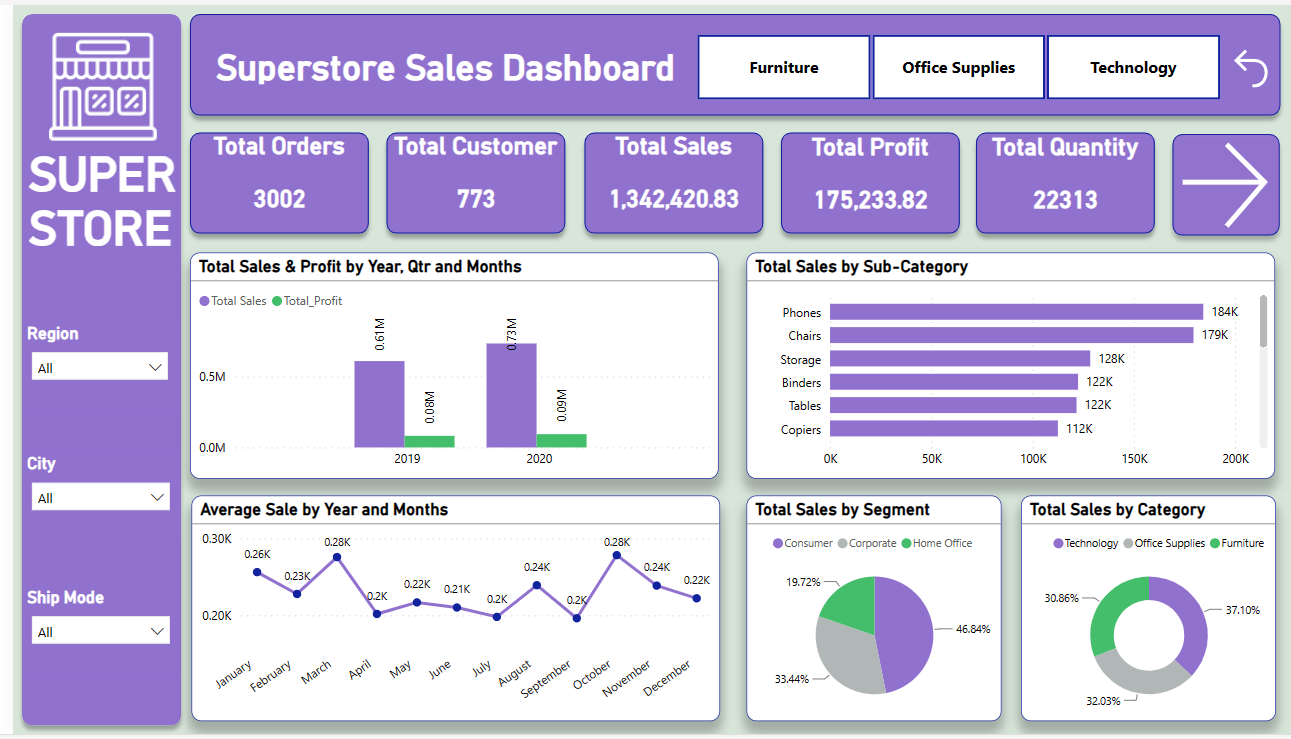

Layout of this report page (visuals, bound fields, positions):
{"tool":"powerbi","page":{"name":"Dashboard","canvas":[1280,730],"ordinal":0},"visuals":[{"type":"shape","box":[168.3,0,1109.9,119.7],"z":0},{"type":"shape","box":[0,0,177.5,730.3],"z":1000},{"type":"textbox","title":"Superstore Sales Dashboard","box":[198.3,42.4,474.6,37.3],"z":2000},{"type":"textbox","title":"SUPER STORE","box":[9.8,141.1,159.1,118.1],"z":3000},{"type":"shape","box":[955.6,118.5,197.1,119.2],"z":4000,"group":"g5"},{"type":"group","id":"g1","title":"Group 1","box":[168.5,119.2,197.1,119.2],"z":4000},{"type":"shape","box":[168.5,119.2,197.1,119.2],"z":4000,"group":"g1"},{"type":"shape","box":[365.6,119.2,197.1,119.2],"z":4000,"group":"g2"},{"type":"shape","box":[562.6,119.2,197.1,119.2],"z":4000,"group":"g3"},{"type":"shape","box":[759.7,119.2,197.1,119.2],"z":4000,"group":"g4"},{"type":"group","id":"g2","title":"Group 1","box":[365.6,119.2,197.1,119.2],"z":5000},{"type":"card","title":"Total Quantity","fields":{"Values":["Orders.Total_Qty"]},"box":[964.2,126.8,178.6,104.9],"z":5000,"group":"g5"},{"type":"card","title":"Total Orders","fields":{"Values":["Orders.Total_Orders"]},"box":[178.6,127.1,175.3,104.9],"z":5000,"group":"g1"},{"type":"card","title":"Total Customer","fields":{"Values":["Orders.Total_Customers"]},"box":[375.7,127.1,175.3,104.9],"z":5000,"group":"g2"},{"type":"card","title":"Total Sales","fields":{"Values":["Orders.Total_Sales"]},"box":[572.7,127.1,175.3,104.9],"z":5000,"group":"g3"},{"type":"card","title":"Total Profit","fields":{"Values":["Orders.Total_Profit"]},"box":[768.3,127.5,178.6,104.9],"z":5000,"group":"g4"},{"type":"group","id":"g3","title":"Group 1","box":[562.6,119.2,197.1,119.2],"z":6000},{"type":"group","id":"g4","title":"Group 1","box":[759.7,119.2,197.1,119.2],"z":7000},{"type":"slicer","title":"Category","fields":{"Values":["Orders.Category"]},"box":[659.6,23.1,573.1,78.8],"z":8000},{"type":"clusteredColumnChart","title":"Total Sales & Profit by Year, Qtr and Months","fields":{"Y":["Orders.Total_Sales","Orders.Total_Profit"],"Category":["Orders.Year","Orders.Qtr_name","Orders.Months"]},"box":[178,247.6,529.1,226.5],"z":9000},{"type":"clusteredBarChart","title":"Total Sales by Sub-Category","fields":{"Category":["Orders.Sub-Category"],"Y":["Orders.Total_Sales"]},"box":[734.6,247.6,529.1,226.5],"z":10000},{"type":"donutChart","title":"Total Sales by Category","fields":{"Category":["Orders.Category"],"Y":["Orders.Total_Sales"]},"box":[1009,491,255.1,225.8],"z":11000},{"type":"slicer","title":"Ship Mode","fields":{"Values":["Orders.Ship Mode"]},"box":[9.6,583.5,157.9,88.6],"z":12000},{"type":"lineChart","title":"Average Sale by Year and Months","fields":{"Y":["Orders.Avg_Sale"],"Category":["Orders.Order Date.Variation.Date Hierarchy.Year","Orders.Order Date.Variation.Date Hierarchy.Month"]},"box":[178.7,490.4,529.2,225.8],"z":13000},{"type":"pieChart","title":"Total Sales by Segment","fields":{"Y":["Orders.Total_Sales"],"Category":["Orders.Segment"]},"box":[734.8,491,255.1,225.8],"z":14000},{"type":"slicer","title":"City","fields":{"Values":["Orders.City"]},"box":[9.6,448.7,157.9,84.7],"z":15000},{"type":"group","id":"g5","title":"Group 1","box":[955.6,118.5,196.3,118.5],"z":16000},{"type":"actionButton","box":[1152.1,119.7,125.4,119.7],"z":17000},{"type":"slicer","title":"Region","fields":{"Values":["Orders.Region"]},"box":[9.6,317.8,156,86.7],"z":18000},{"type":"image","box":[29.5,23,119.8,118.1],"z":19000},{"type":"actionButton","box":[1214.8,23.5,49.4,79],"z":20000}]}

Visuals, with their boxes in screenshot pixels (x1, y1, x2, y2), scaled from the page's 1280x730 canvas onto the 1291x739 screenshot:
shape: <box>170,0,1289,121</box>
shape: <box>0,0,179,738</box>
"Superstore Sales Dashboard" textbox: <box>200,43,679,81</box>
"SUPER STORE" textbox: <box>10,143,170,262</box>
shape: <box>964,120,1163,241</box>
"Group 1" group: <box>170,121,369,241</box>
shape: <box>170,121,369,241</box>
shape: <box>369,121,568,241</box>
shape: <box>567,121,766,241</box>
shape: <box>766,121,965,241</box>
"Group 1" group: <box>369,121,568,241</box>
"Total Quantity" card: <box>972,128,1153,235</box>
"Total Orders" card: <box>180,129,357,235</box>
"Total Customer" card: <box>379,129,556,235</box>
"Total Sales" card: <box>578,129,754,235</box>
"Total Profit" card: <box>775,129,955,235</box>
"Group 1" group: <box>567,121,766,241</box>
"Group 1" group: <box>766,121,965,241</box>
"Category" slicer: <box>665,23,1243,103</box>
"Total Sales & Profit by Year, Qtr and Months" clusteredColumnChart: <box>180,251,713,480</box>
"Total Sales by Sub-Category" clusteredBarChart: <box>741,251,1275,480</box>
"Total Sales by Category" donutChart: <box>1018,497,1275,726</box>
"Ship Mode" slicer: <box>10,591,169,680</box>
"Average Sale by Year and Months" lineChart: <box>180,496,714,725</box>
"Total Sales by Segment" pieChart: <box>741,497,998,726</box>
"City" slicer: <box>10,454,169,540</box>
"Group 1" group: <box>964,120,1162,240</box>
actionButton: <box>1162,121,1288,242</box>
"Region" slicer: <box>10,322,167,409</box>
image: <box>30,23,151,143</box>
actionButton: <box>1225,24,1275,104</box>
